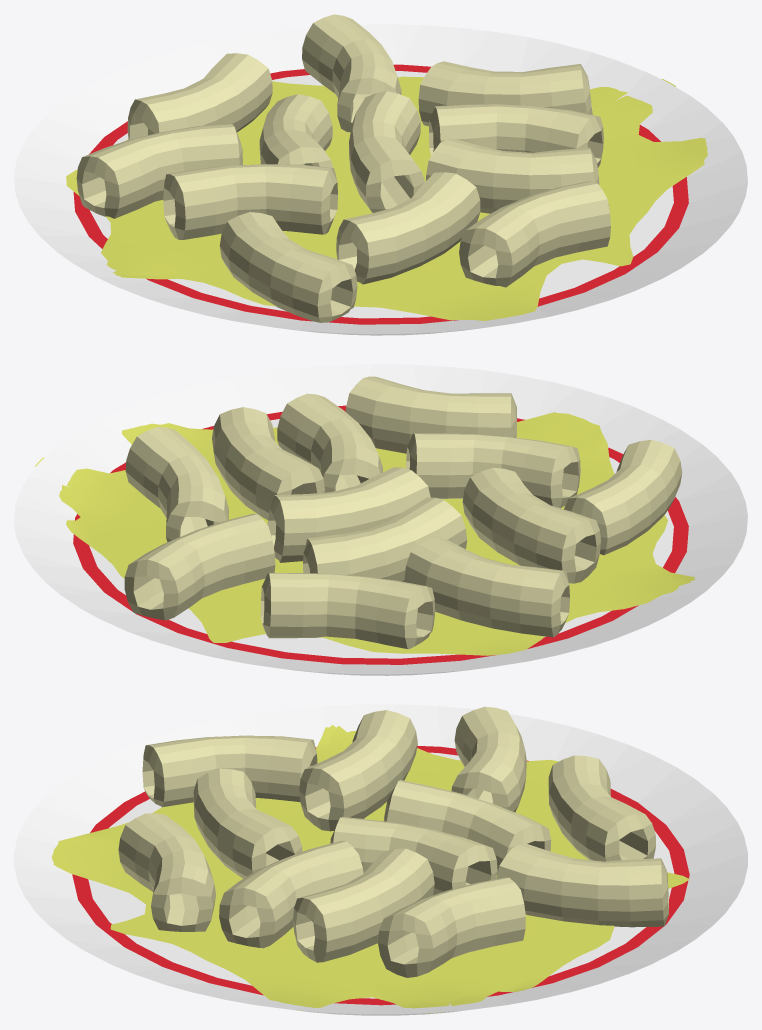
File: plated_egged_mac.fbx
3 renders of one model, top to bottom at view 1: azimuth 30°, elevation 25°; view 2: azimuth 150°, elevation 25°; view 3: azimuth 270°, elevation 25°, orthographic.
Visible parts, largest first — view 1: Noodles, Plate, Cheese; view 2: Noodles, Plate, Cheese; view 3: Noodles, Plate, Cheese.
Boxes of the visible parts, x1=… form: Noodles: x1=76, y1=14, x2=610, y2=322; Plate: x1=14, y1=24, x2=747, y2=335; Cheese: x1=66, y1=76, x2=707, y2=320; Noodles: x1=124, y1=376, x2=682, y2=649; Plate: x1=14, y1=364, x2=747, y2=675; Cheese: x1=35, y1=412, x2=695, y2=655; Noodles: x1=118, y1=706, x2=668, y2=977; Plate: x1=14, y1=704, x2=747, y2=1015; Cheese: x1=51, y1=725, x2=689, y2=1013.
Bounding box in the file's own units: 56.7 × 7.04 × 56.7.
